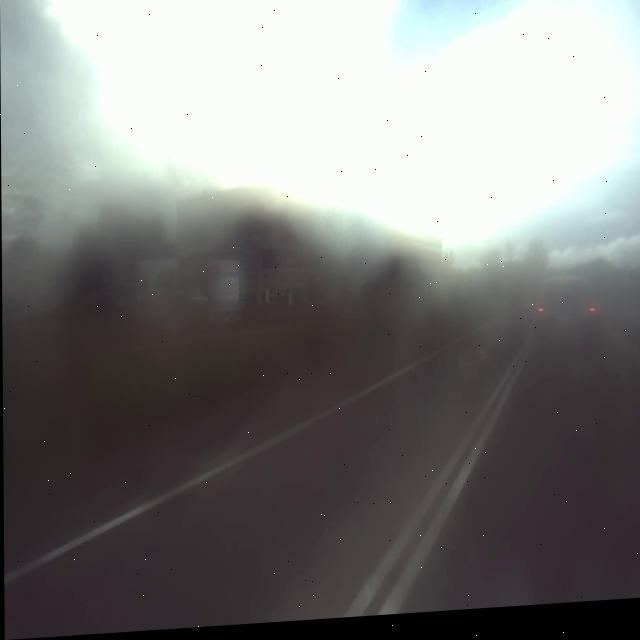car: (533, 275, 600, 374)
